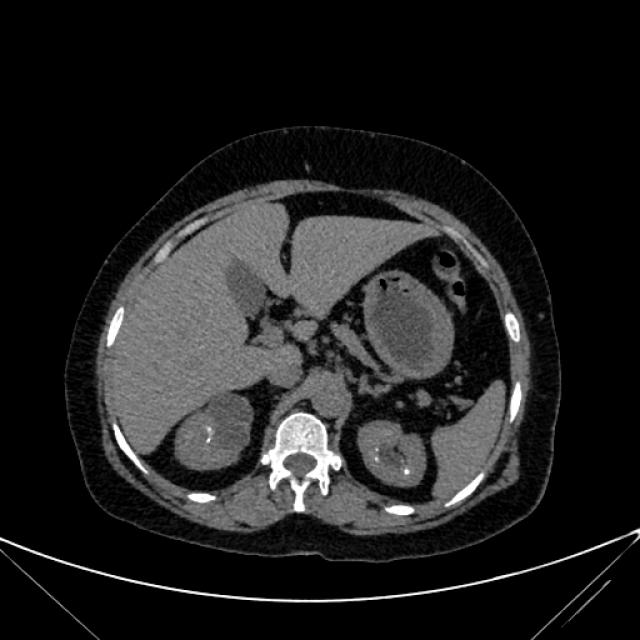kidney: (172, 390, 255, 474), (357, 417, 429, 489)
stone: (403, 466, 412, 478), (204, 435, 212, 447), (374, 446, 381, 456), (206, 423, 212, 433), (374, 457, 381, 464)
